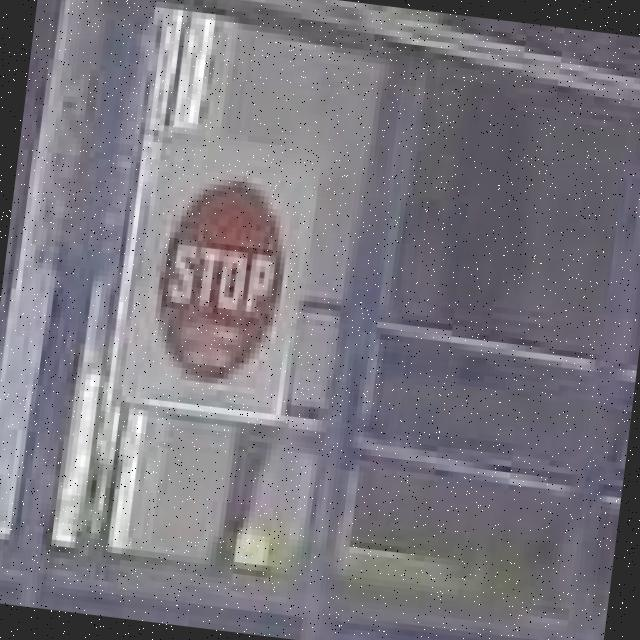Stop: (151, 174, 294, 396)
